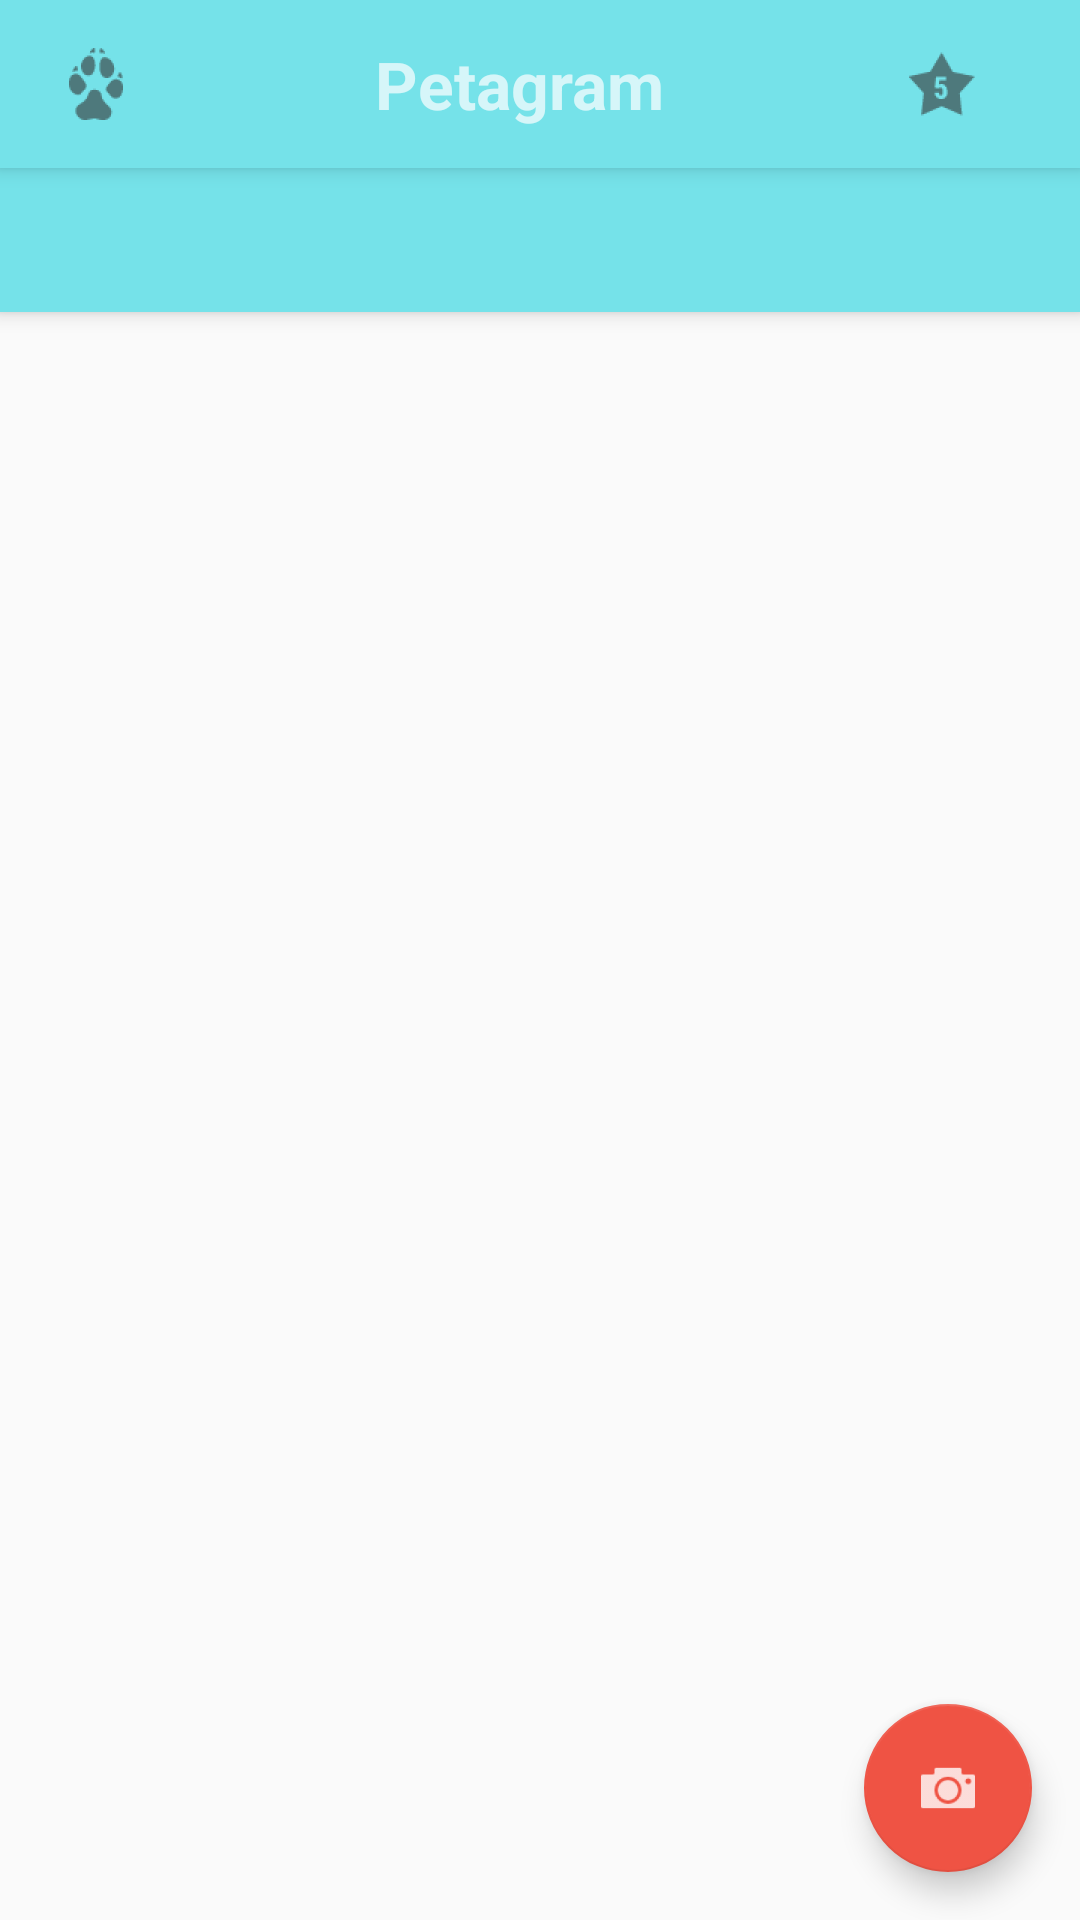

Named icons in this screenshot (1080×1920) and their bounding boxes, [left=x1, top=y1, right=x2, bottom=y2]:
camara: [left=864, top=1704, right=1032, bottom=1872]
favotitas: [left=909, top=53, right=975, bottom=115]
huella: [left=69, top=48, right=123, bottom=120]
